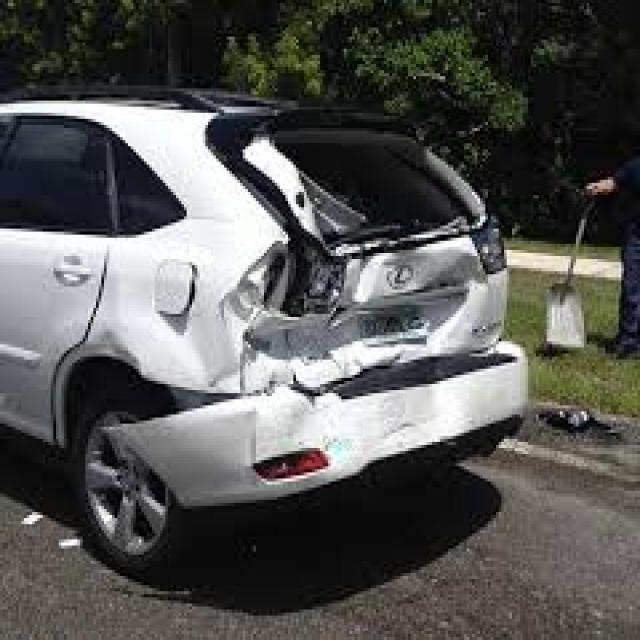damaged-trunk: (215, 122, 502, 388)
